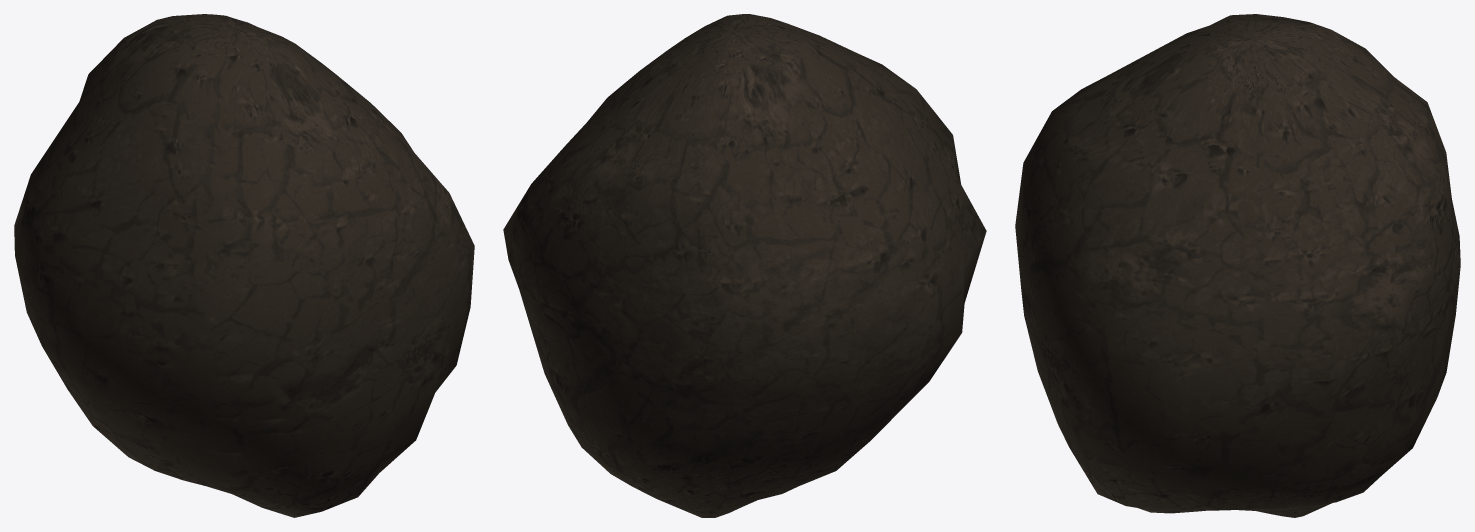
The model's file is Asteroid3.obj.
The picture shows the model from 3 angles, left to right: view 1: azimuth 30°, elevation 25°; view 2: azimuth 150°, elevation 25°; view 3: azimuth 270°, elevation 25°; orthographic projection.
Visible parts, largest first — view 1: pSphere1; view 2: pSphere1; view 3: pSphere1.
Boxes of the visible parts, bbox=[...] form: pSphere1: bbox=[14, 14, 474, 517]; pSphere1: bbox=[503, 14, 986, 517]; pSphere1: bbox=[1015, 14, 1460, 517].
Size of the model in its own units: 3.6 by 4.05 by 3.47.
1 material, 1 textured.
